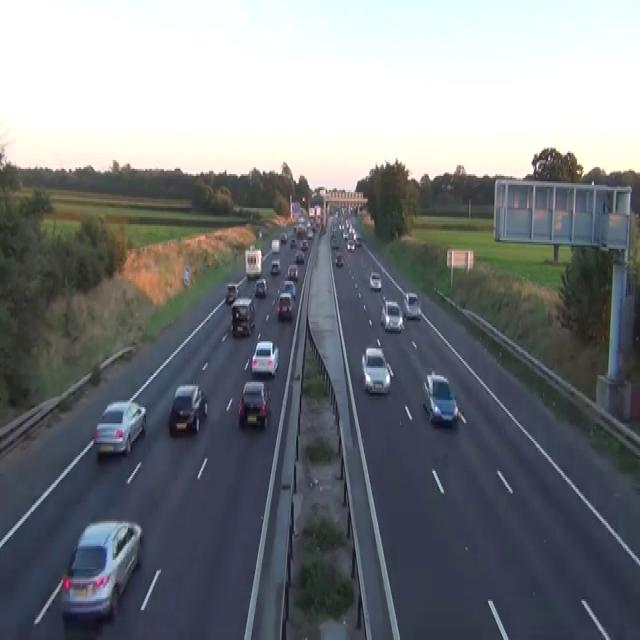Car: (60, 519, 143, 622), (93, 398, 146, 455), (422, 369, 458, 426), (330, 204, 362, 268), (168, 384, 207, 434), (237, 381, 271, 428), (361, 346, 392, 394), (250, 340, 279, 375), (62, 620, 117, 638), (231, 297, 255, 336), (380, 298, 403, 332), (402, 292, 421, 318), (276, 292, 293, 320), (225, 283, 239, 304), (254, 277, 267, 297), (283, 279, 296, 299), (369, 270, 381, 290), (380, 295, 387, 325), (287, 263, 298, 281), (272, 288, 280, 309), (270, 258, 280, 274), (346, 238, 355, 251), (330, 236, 339, 249), (335, 252, 343, 266), (271, 238, 279, 252), (295, 251, 304, 263), (296, 224, 305, 236), (300, 238, 308, 251), (354, 233, 362, 245), (320, 222, 326, 235), (280, 231, 287, 242), (306, 228, 313, 238), (446, 182, 454, 190), (290, 238, 296, 247), (298, 217, 305, 224), (258, 228, 262, 238), (293, 224, 297, 233)
Truck: (244, 245, 262, 279)
